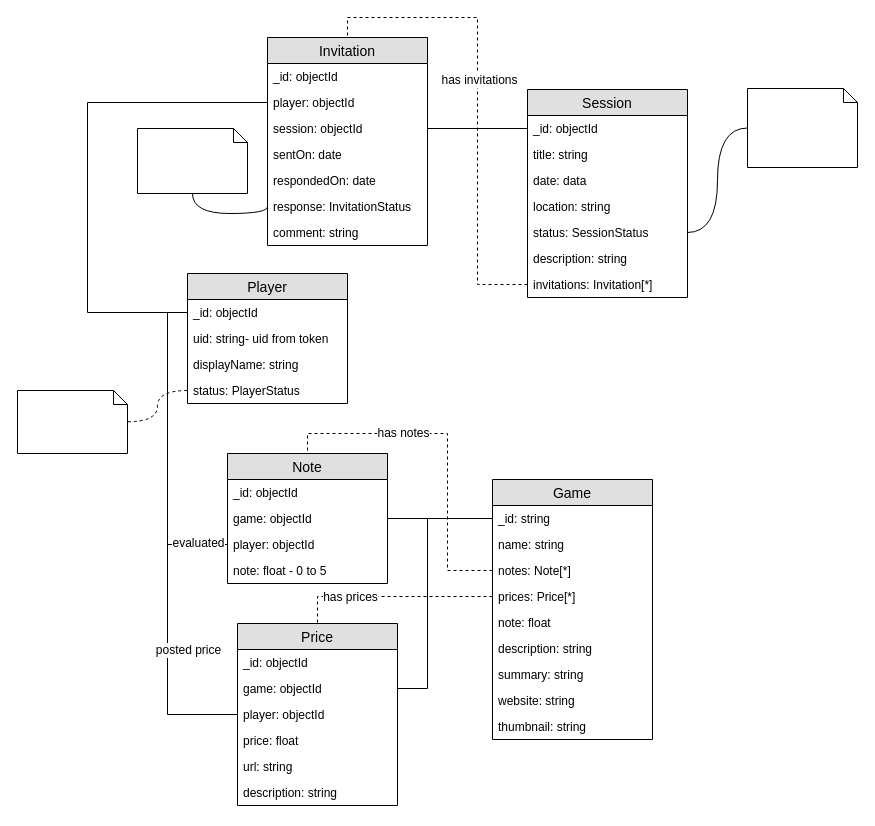
Image size: 875x826. Some labels were removed from this diagram. The centre of each missing label's shape, as x and y in pixels:
"DRAFT PROPOSED CANCELLED CONFIRMED PAST" belongs at point (802, 128).
"PENDING ACTIVE ARCHIVED BANNED" belongs at point (72, 422).
"PENDING MAYBE DECLINED CONFIRMED" belongs at point (192, 161).
